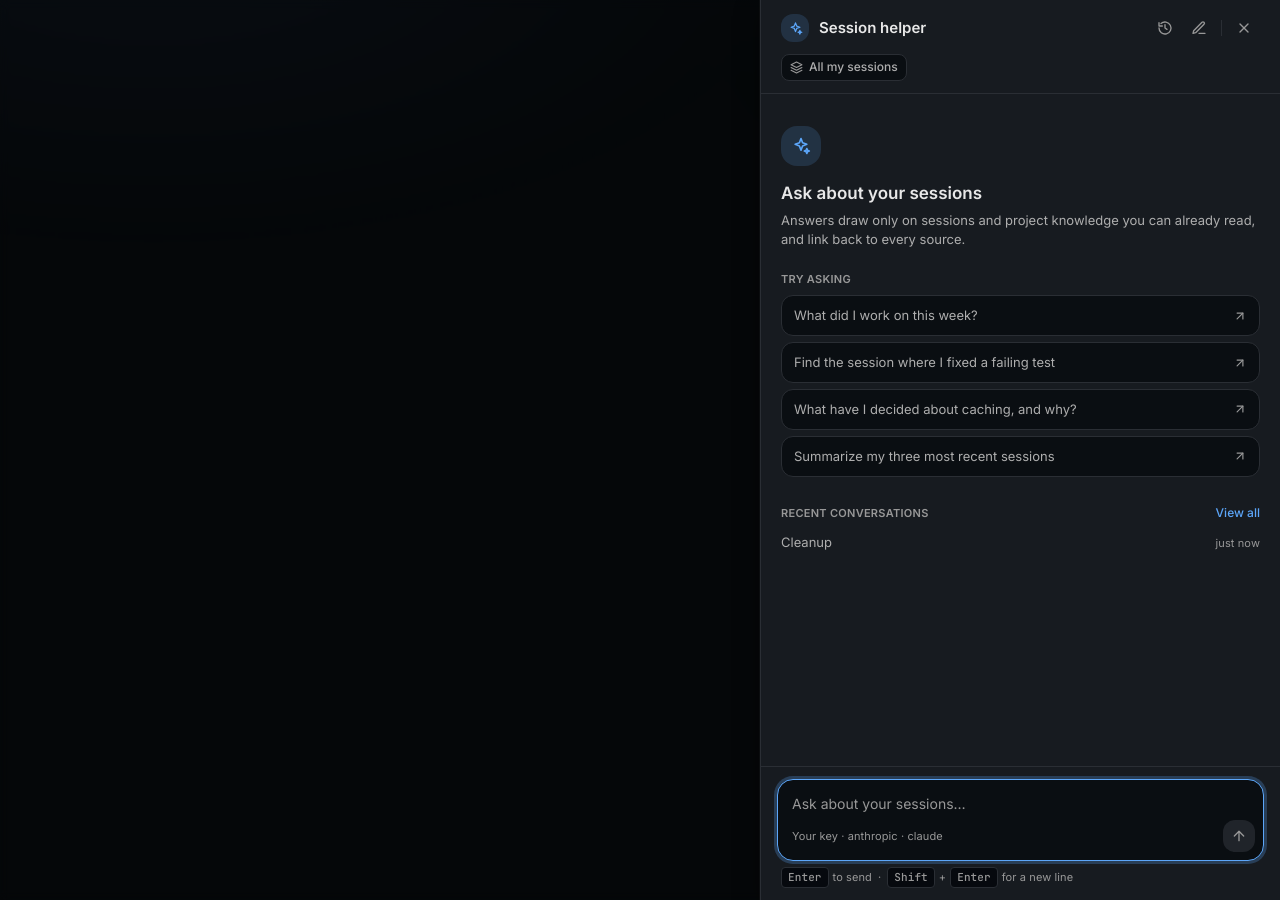
Test case: HelperPanel — write actions › renders a streamed action_proposed event as a confirm card in that answer
This screenshot has width=1280, height=900.
In the text box named "Ask the session helper": (1020, 800) [778, 780, 1263, 820], type "clean up"
Then press Enter
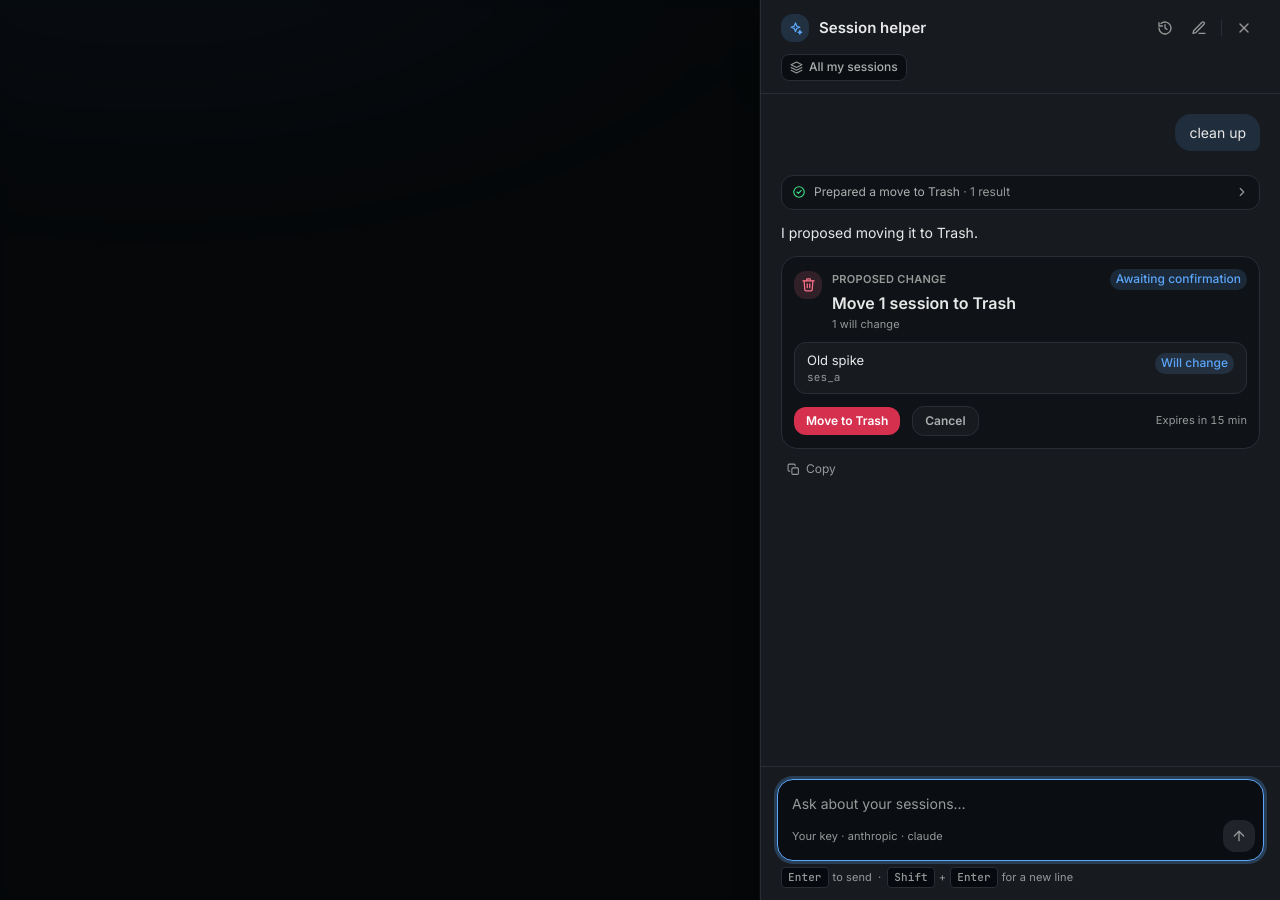
Check: the heading "Move 1 session to Trash" is shown, box [832, 293, 1016, 313]
Check: the button "Move to Trash" is shown, box [794, 406, 900, 435]
